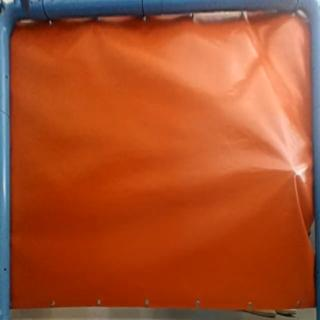Hit-hRxx: (288, 165, 306, 179)
